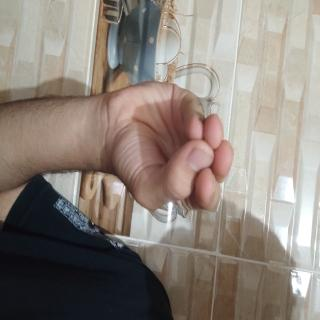HA: (57, 105, 161, 304)
